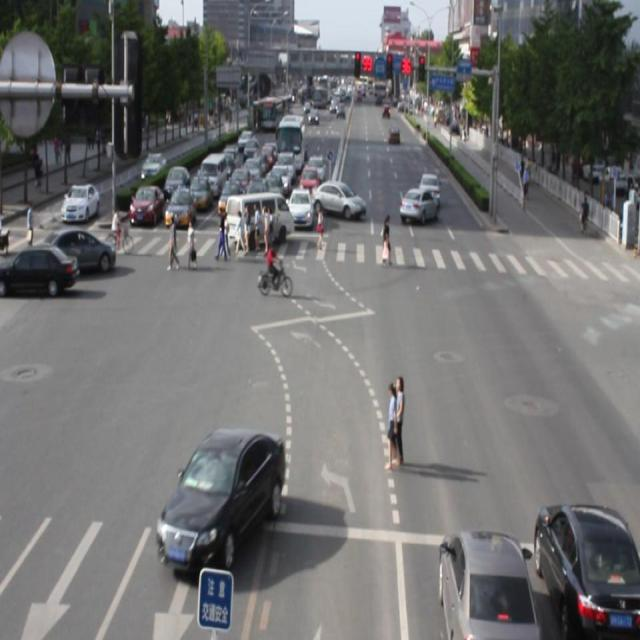car: (156, 424, 285, 570), (534, 498, 640, 640), (436, 527, 537, 640)
truck: (224, 189, 294, 250)
